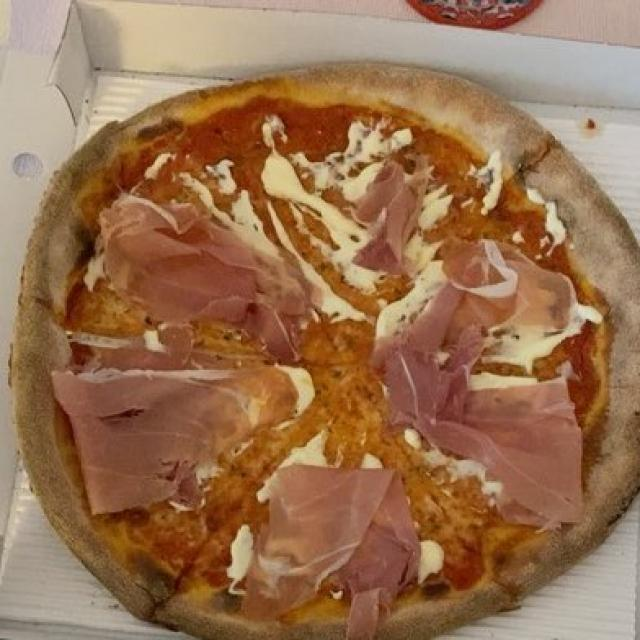ham: (60, 164, 601, 618)
pizza: (55, 84, 626, 621)
